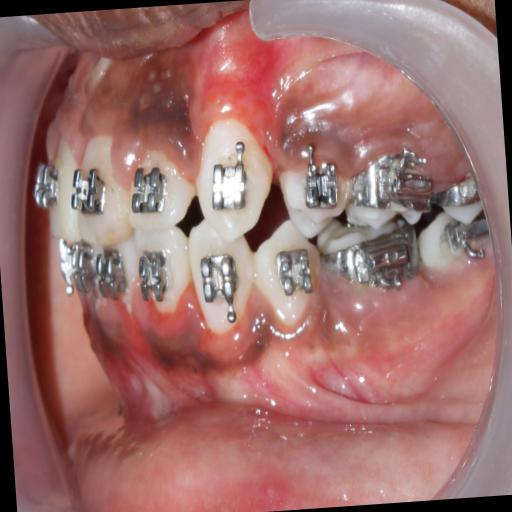correct_brace: (276, 132, 360, 235), (66, 160, 116, 222), (206, 156, 255, 214), (128, 162, 170, 220)
incorrect_brace: (124, 146, 198, 239), (302, 160, 342, 214)
